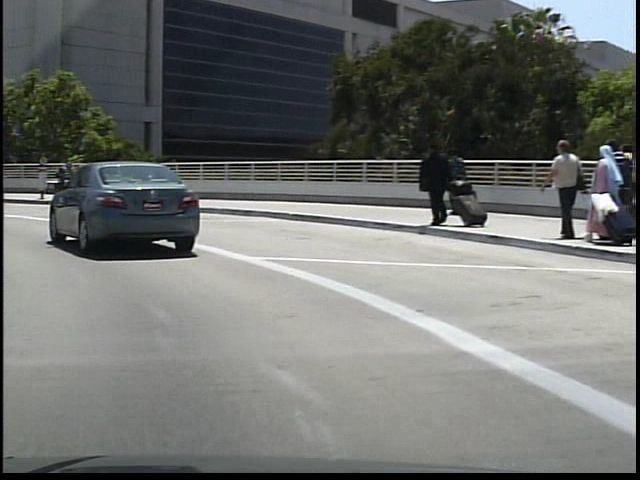person: (538, 134, 583, 243), (415, 139, 454, 226), (440, 143, 471, 220)
